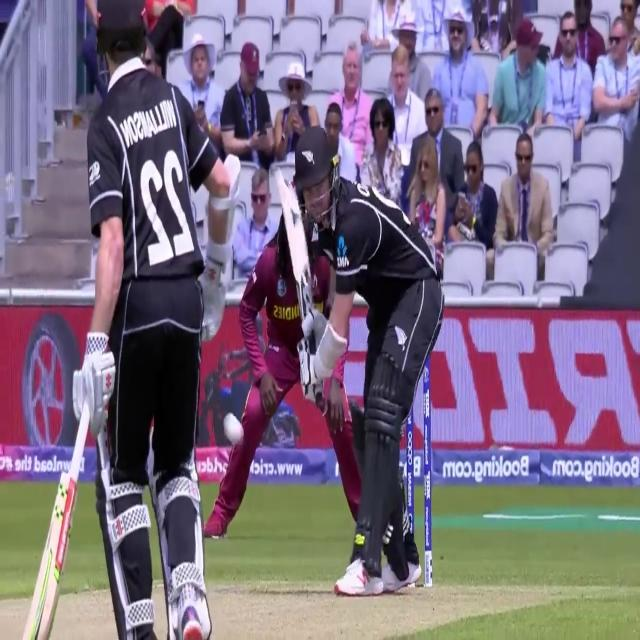ball: (218, 408, 246, 453)
